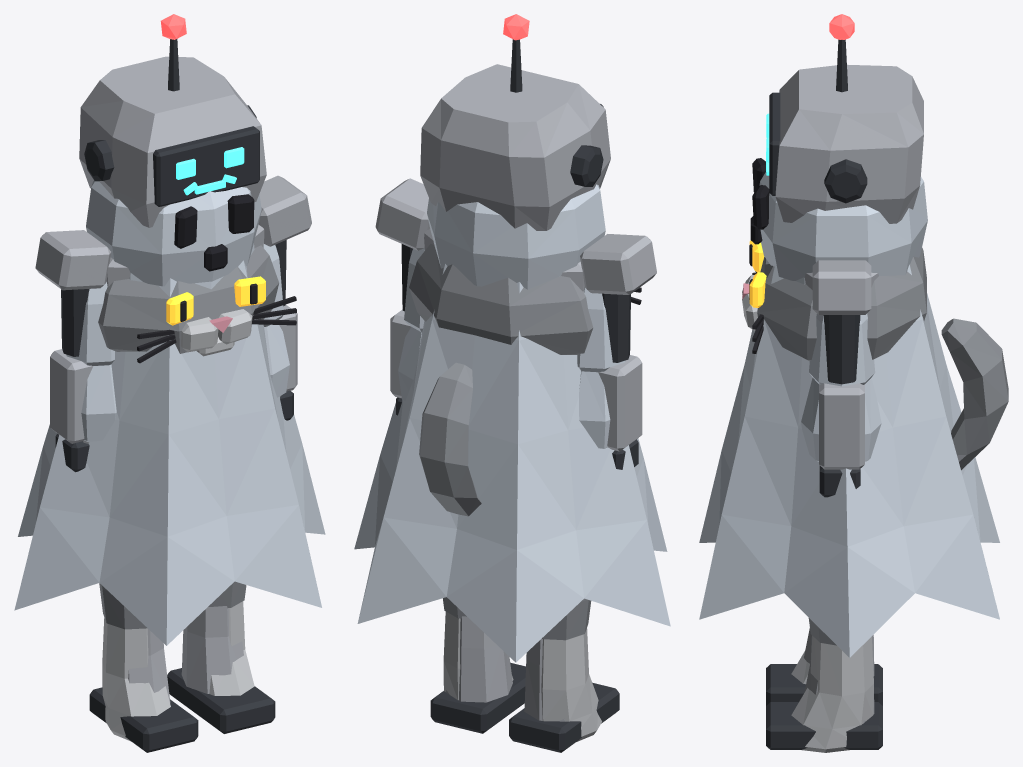
File: custom_chars.glb
3 views of the same model, side by side, from view 1: azimuth 30°, elevation 25°; view 2: azimuth 150°, elevation 25°; view 3: azimuth 270°, elevation 25° (orthographic).
Parts seen in each view (by area): view 1: ghost_cloak, rob_head, ghost_head, cat_head, rob_visor, cat_shinL, rob_pauldronL, rob_shinR, rob_footR, rob_footL, rob_armDL, rob_pauldronR (+24 smaller); view 2: ghost_cloak, rob_head, cat_head, ghost_head, cat_tail, cat_shinL, rob_pauldronL, rob_shinR, rob_armDL, rob_footR, rob_pauldronR, rob_footL (+12 smaller); view 3: ghost_cloak, rob_head, ghost_head, cat_head, cat_shinR, cat_tail, rob_armDR, rob_pauldronR, rob_footR, rob_armUR, ghost_armDR, ghost_armUR (+7 smaller).
Part boxes in pixels (bbox=[...]): ghost_cloak: bbox=[14, 243, 325, 645]; rob_head: bbox=[79, 56, 266, 227]; ghost_head: bbox=[86, 180, 261, 286]; cat_head: bbox=[98, 245, 278, 353]; rob_visor: bbox=[153, 126, 259, 206]; cat_shinL: bbox=[102, 618, 170, 741]; rob_pauldronL: bbox=[35, 230, 111, 290]; rob_shinR: bbox=[181, 606, 243, 693]; rob_footR: bbox=[167, 668, 275, 733]; rob_footL: bbox=[89, 687, 198, 752]; rob_armDL: bbox=[50, 349, 93, 443]; rob_pauldronR: bbox=[258, 175, 311, 246]; ghost_cloak: bbox=[354, 264, 670, 662]; rob_head: bbox=[420, 64, 610, 230]; cat_head: bbox=[409, 243, 593, 354]; ghost_head: bbox=[427, 184, 605, 289]; cat_tail: bbox=[419, 362, 481, 516]; cat_shinL: bbox=[541, 628, 601, 741]; rob_pauldronL: bbox=[580, 234, 656, 294]; rob_shinR: bbox=[446, 616, 512, 702]; rob_armDL: bbox=[598, 355, 642, 451]; rob_footR: bbox=[430, 662, 525, 733]; rob_pauldronR: bbox=[375, 178, 429, 250]; rob_footL: bbox=[509, 682, 619, 752]; ghost_cloak: bbox=[699, 259, 999, 657]; rob_head: bbox=[775, 64, 923, 223]; ghost_head: bbox=[759, 172, 927, 280]; cat_head: bbox=[757, 247, 926, 361]; cat_shinR: bbox=[791, 636, 873, 752]; cat_tail: bbox=[941, 318, 1008, 470]; rob_armDR: bbox=[819, 383, 864, 469]; rob_pauldronR: bbox=[812, 260, 871, 314]; rob_footR: bbox=[766, 702, 882, 749]; rob_armUR: bbox=[823, 315, 860, 384]; ghost_armDR: bbox=[801, 378, 881, 461]; ghost_armUR: bbox=[809, 313, 875, 386].
Bounding box in the file's own units: 0.93 × 1.99 × 0.7927.
